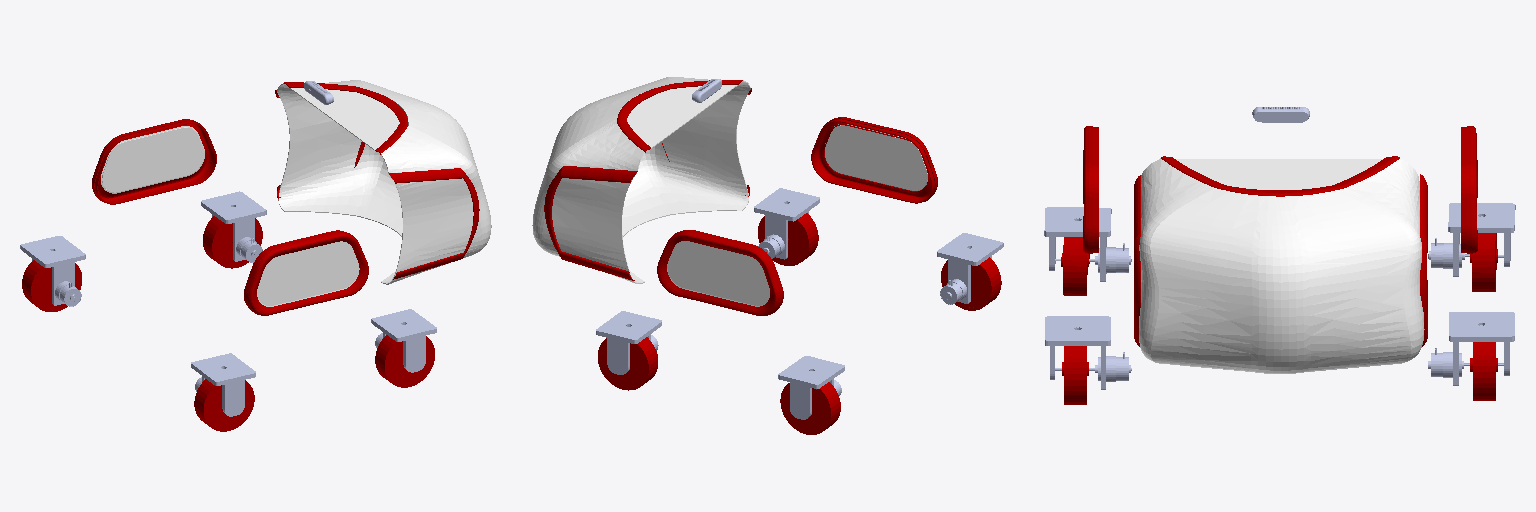
URDF robot description (polaris):
<?xml version="1.0" ?>
<robot name="polaris">

  <link name="base_footprint"/>

  <joint name="base_joint" type="fixed">
    <parent link="base_footprint"/>
    <child link="base_link" />
    <origin xyz="0 0 0.2" rpy="0 0 0"/>
  </joint>
  
  <link name="base_link">
    <inertial>
      <origin xyz="-0.0135856354500551 -0.000368623782946442 0.0321180332372298" rpy="0 0 0" />
      <mass value="17.3813227656087" />
      <inertia ixx="0.802202966157402" ixy="0.000367065697614043" ixz="0.0503338758794729"
        			 iyy="1.25689975167862" iyz="-1.81732123472174E-05"
        			 izz="1.4061181494617" />
    </inertial>
    <visual>
      <origin xyz="0 0 0" rpy="0 0 0" />
      <geometry>
        <mesh filename="package://polaris_v3/meshes/base_link.STL" />
      </geometry>
      <material name="White">
        <color rgba="1 1 1 1" />
      </material>
    </visual>
    <collision>
      <origin xyz="0 0 0" rpy="0 0 0" />
      <geometry>
        <mesh filename="package://polaris_v3/meshes/base_link.STL" />
      </geometry>
    </collision>
  </link>
  
  <link name="Frame_Link">
    <inertial>
      <origin xyz="0.065625 0.042375 0.065251" rpy="0 0 0" />
      <mass value="0.23722" />
      <inertia ixx="0.0014086" ixy="7.0084E-06" ixz="1.6947E-05"
        			 iyy="0.002752" iyz="-5.3554E-07"
        			 izz="0.0022916" />
    </inertial>
    <visual>
      <origin xyz="0 0 0" rpy="0 0 0" />
      <geometry>
        <mesh filename="package://polaris_v3/meshes/Frame_Link.STL" />
      </geometry>
      <material name="Red">
        <color rgba="0.75294 0 0 1" />
      </material>
    </visual>
    <collision>
      <origin xyz="0 0 0" rpy="0 0 0" />
      <geometry>
        <mesh filename="package://polaris_v3/meshes/Frame_Link.STL" />
      </geometry>
    </collision>
  </link>
  <joint name="Frame_Joint" type="fixed">
    <origin xyz="0 0 0" rpy="0 0 0" />
    <parent link="base_link" />
    <child link="Frame_Link" />
  </joint>
  
  <link name="FRS_Link">
    <inertial>
      <origin xyz="-0.00028954 0.017008 -0.030505" rpy="0 0 0" />
      <mass value="0.26569" />
      <inertia ixx="0.00020177" ixy="8.9975E-09" ixz="-3.4847E-08"
        			 iyy="0.00018976" iyz="1.0754E-07"
               izz="0.00025101" />
    </inertial>
    <visual>
      <origin xyz="0 0 0" rpy="0 0 0" />
      <geometry>
        <mesh filename="package://polaris_v3/meshes/FRS_Link.STL" />
      </geometry>
      <material name="Gray">
        <color rgba="0.79216 0.81961 0.93333 1" />
      </material>
    </visual>
    <collision>
      <origin xyz="0 0 0" rpy="0 0 0" />
      <geometry>
        <mesh filename="package://polaris_v3/meshes/FRS_Link.STL" />
      </geometry>
    </collision>
  </link>
  <joint name="FRS_Joint" type="revolute">
    <origin xyz="0.1834 -0.34874 -0.12737" rpy="0 0 0" />
    <parent link="base_link" />
    <child link="FRS_Link" />
    <axis xyz="0 0 -1" />
    <limit lower="-3.142" upper="3.142" effort="20" velocity="15" />
    <dynamics damping="0.2" friction="0.2" />
  </joint>
  
  <link name="FRD_Link">
    <inertial>
      <origin xyz="2.22044604925031E-16 -3.90312782094782E-18 0" rpy="0 0 0" />
      <mass value="0.518797270106307" />
      <inertia ixx="0.000593235551045214" ixy="-3.04506138371625E-07" ixz="1.80596659345287E-19"
       				 iyy="0.00104547053081701" iyz="2.88500201178985E-20"
               izz="0.000593235346010331" />
    </inertial>
    <visual>
      <origin xyz="0 0 0" rpy="0 0 0" />
      <geometry>
        <mesh filename="package://polaris_v3/meshes/FRD_Link.STL" />
      </geometry>
      <material name="Red">
        <color rgba="0.752941176470588 0 0 1" />
      </material>
    </visual>
    <collision>
      <origin xyz="0 0 0" rpy="0 0 0" />
      <geometry>
        <mesh filename="package://polaris_v3/meshes/FRD_Link.STL" />
      </geometry>
    </collision>
  </link>
  <joint name="FRD_Joint" type="continuous">
    <origin xyz="-0.0004176 -0.0043003 -0.06828" rpy="0 0 0" />
    <parent link="FRS_Link" />
    <child link="FRD_Link" />
    <axis xyz="0 1 0" />
  </joint>
  
  <link name="BRS_Link">
    <inertial>
      <origin xyz="4.72063399692413E-06 0.0170105153668563 -0.0305049637464356" rpy="0 0 0" />
      <mass value="0.26568630485325" />
      <inertia ixx="0.000201764594262619" ixy="-1.98649062271937E-07" ixz="-3.29811105170335E-08"
        			 iyy="0.000189766083815041" iyz="1.08128721551344E-07" 
        			 izz="0.000251005809312619" />
    </inertial>
    <visual>
      <origin xyz="0 0 0" rpy="0 0 0" />
      <geometry>
        <mesh filename="package://polaris_v3/meshes/BRS_Link.STL" />
      </geometry>
      <material name="Gray">
        <color rgba="0.792156862745098 0.819607843137255 0.933333333333333 1" />
      </material>
    </visual>
    <collision>
      <origin xyz="0 0 0" rpy="0 0 0" />
      <geometry>
        <mesh filename="package://polaris_v3/meshes/BRS_Link.STL" />
      </geometry>
    </collision>
  </link>
  <joint name="BRS_Joint" type="revolute">
    <origin xyz="-0.26091 -0.34874 -0.12737" rpy="0 0 0" />
    <parent link="base_link" />
    <child link="BRS_Link" />
    <axis xyz="0 0 -1" />
    <limit lower="-3.142" upper="3.142" effort="20" velocity="15" />
    <dynamics damping="0.2" friction="0.2" />
  </joint>
  
  <link
    name="BRD_Link">
    <inertial>
      <origin
        xyz="0.000332509365037759 0.019997235747028 -4.9960036108132E-15"
        rpy="0 0 0" />
      <mass
        value="0.518797270106307" />
      <inertia
        ixx="0.000593360346673492"
        ixy="7.51758594691379E-06"
        ixz="-1.18507925104678E-19"
        iyy="0.00104534573518873"
        iyz="-1.58025277226914E-18"
        izz="0.000593235346010331" />
    </inertial>
    <visual>
      <origin
        xyz="0 0 0"
        rpy="0 0 0" />
      <geometry>
        <mesh
          filename="package://polaris_v3/meshes/BRD_Link.STL" />
      </geometry>
      <material
        name="Red">
        <color
          rgba="0.752941176470588 0 0 1" />
      </material>
    </visual>
    <collision>
      <origin
        xyz="0 0 0"
        rpy="0 0 0" />
      <geometry>
        <mesh
          filename="package://polaris_v3/meshes/BRD_Link.STL" />
      </geometry>
    </collision>
  </link>
  <joint
    name="BRD_Joint"
    type="continuous">
    <origin
      xyz="-0.00082444 -0.02429 -0.06828"
      rpy="0 0 0" />
    <parent
      link="BRS_Link" />
    <child
      link="BRD_Link" />
    <axis
      xyz="0 1 0" />
  </joint>
  <link
    name="FLS_Link">
    <inertial>
      <origin
        xyz="0.000286717627501432 -0.0170081023419595 -0.0305049648298585"
        rpy="0 0 0" />
      <mass
        value="0.265686304830206" />
      <inertia
        ixx="0.000201767799862076"
        ixy="6.88211065138961E-09"
        ixz="3.44859487918497E-08"
        iyy="0.00018976272563148"
        iyz="-1.07548319818831E-07"
        izz="0.000251005813561771" />
    </inertial>
    <visual>
      <origin
        xyz="0 0 0"
        rpy="0 0 0" />
      <geometry>
        <mesh
          filename="package://polaris_v3/meshes/FLS_Link.STL" />
      </geometry>
      <material
        name="Gray">
        <color
          rgba="0.792156862745098 0.819607843137255 0.933333333333333 1" />
      </material>
    </visual>
    <collision>
      <origin
        xyz="0 0 0"
        rpy="0 0 0" />
      <geometry>
        <mesh
          filename="package://polaris_v3/meshes/FLS_Link.STL" />
      </geometry>
    </collision>
  </link>
  <joint
    name="FLS_Joint"
    type="revolute">
    <origin
      xyz="0.165 0.34671 -0.12737"
      rpy="0 0 0" />
    <parent
      link="base_link" />
    <child
      link="FLS_Link" />
    <axis
      xyz="0 0 -1" />
    <limit
      lower="-3.142"
      upper="3.142"
      effort="20"
      velocity="15" />
    <dynamics
      damping="0.2"
      friction="0.2" />
  </joint>
  <link
    name="FLD_Link">
    <inertial>
      <origin
        xyz="0 0 5.55111512312578E-17"
        rpy="0 0 0" />
      <mass
        value="0.518797270106306" />
      <inertia
        ixx="0.000593235346010329"
        ixy="-1.9296469329637E-20"
        ixz="-1.39501550379285E-20"
        iyy="0.00104547073585189"
        iyz="-4.85115886510159E-19"
        izz="0.000593235346010329" />
    </inertial>
    <visual>
      <origin
        xyz="0 0 0"
        rpy="0 0 0" />
      <geometry>
        <mesh
          filename="package://polaris_v3/meshes/FLD_Link.STL" />
      </geometry>
      <material
        name="Red">
        <color
          rgba="0.752941176470588 0 0 1" />
      </material>
    </visual>
    <collision>
      <origin
        xyz="0 0 0"
        rpy="0 0 0" />
      <geometry>
        <mesh
          filename="package://polaris_v3/meshes/FLD_Link.STL" />
      </geometry>
    </collision>
  </link>
  <joint
    name="FLD_Joint"
    type="continuous">
    <origin
      xyz="0.00041836 0.0043002 -0.06828"
      rpy="0 0 0.00049713" />
    <parent
      link="FLS_Link" />
    <child
      link="FLD_Link" />
    <axis
      xyz="0 1 0" />
  </joint>
  <link
    name="BLS_Link">
    <inertial>
      <origin
        xyz="-7.68143074765248E-05 -0.017010342585988 -0.0305049637459894"
        rpy="0 0 0" />
      <mass
        value="0.26568630485325" />
      <inertia
        ixx="0.000201762620887554"
        ixy="-2.49493379607449E-07"
        ixz="3.25225447298381E-08"
        iyy="0.000189767909095496"
        iyz="-1.08267530480578E-07"
        izz="0.000251005809312619" />
    </inertial>
    <visual>
      <origin
        xyz="0 0 0"
        rpy="0 0 0" />
      <geometry>
        <mesh
          filename="package://polaris_v3/meshes/BLS_Link.STL" />
      </geometry>
      <material
        name="Gray">
        <color
          rgba="0.792156862745098 0.819607843137255 0.933333333333333 1" />
      </material>
    </visual>
    <collision>
      <origin
        xyz="0 0 0"
        rpy="0 0 0" />
      <geometry>
        <mesh
          filename="package://polaris_v3/meshes/BLS_Link.STL" />
      </geometry>
    </collision>
  </link>
  <joint
    name="BLS_Joint"
    type="revolute">
    <origin
      xyz="-0.27885 0.34714 -0.12737"
      rpy="0 0 0" />
    <parent
      link="base_link" />
    <child
      link="BLS_Link" />
    <axis
      xyz="0 0 -1" />
    <limit
      lower="-3.142"
      upper="3.142"
      effort="20"
      velocity="15" />
    <dynamics
      damping="0.2"
      friction="0.2" />
  </joint>
  <link
    name="BLD_Link">
    <inertial>
      <origin
        xyz="-5.55111512312578E-17 -2.22044604925031E-16 -5.55111512312578E-17"
        rpy="0 0 0" />
      <mass
        value="0.518797270106306" />
      <inertia
        ixx="0.00059343218660394"
        ixy="9.43289649945181E-06"
        ixz="-1.91829463375101E-20"
        iyy="0.00104527389525828"
        iyz="1.65044423418098E-19"
        izz="0.000593235346010329" />
    </inertial>
    <visual>
      <origin
        xyz="0 0 0"
        rpy="0 0 0" />
      <geometry>
        <mesh
          filename="package://polaris_v3/meshes/BLD_Link.STL" />
      </geometry>
      <material
        name="Red">
        <color
          rgba="0.752941176470588 0 0 1" />
      </material>
    </visual>
    <collision>
      <origin
        xyz="0 0 0"
        rpy="0 0 0" />
      <geometry>
        <mesh
          filename="package://polaris_v3/meshes/BLD_Link.STL" />
      </geometry>
    </collision>
  </link>
  <joint
    name="BLD_Joint"
    type="continuous">
    <origin
      xyz="0.00051012 0.0042903 -0.06828"
      rpy="0 0 0" />
    <parent
      link="BLS_Link" />
    <child
      link="BLD_Link" />
    <axis
      xyz="0 1 0" />

  </joint>
  
  <link name="Glass_Link">
    <inertial>
      <origin xyz="0.33872 0.00012265 0.064463" rpy="0 0 0" />
      <mass value="1.2093" />
      <inertia
        ixx="0.041112"
        ixy="-5.5246E-05"
        ixz="0.00051803"
        iyy="0.017745"
        iyz="1.9916E-05"
        izz="0.038251" />
    </inertial>
    <visual>
      <origin xyz="0 0 0" rpy="0 0 0" />
      <geometry>
        <mesh filename="package://polaris_v3/meshes/Glass_Link.STL" />
      </geometry>
      <material name="Transparent">
        <color rgba="1 1 1 0.5" />
      </material>
    </visual>
    <collision>
      <origin xyz="0 0 0" rpy="0 0 0" />
      <geometry>
        <mesh filename="package://polaris_v3/meshes/Glass_Link.STL" />
      </geometry>
    </collision>
  </link>
  <joint name="Glass_Joint" type="fixed">
    <origin xyz="0 0 0" rpy="0 0 0" />
    <parent link="base_link" />
    <child link="Glass_Link" />
  </joint>
  
  <link name="Lidar_Link">
    <inertial>
      <origin xyz="0.002291 -6.7642E-05 -0.0052855" rpy="0 0 0" />
      <mass value="0.055329" />
      <inertia
        ixx="1.8044E-05"
        ixy="3.8843E-08"
        ixz="-2.5259E-07"
        iyy="1.772E-05"
        iyz="-4.9929E-09"
        izz="3.2968E-05" />
    </inertial>
    <visual>
      <origin xyz="0 0 0" rpy="0 0 0" />
      <geometry>
        <mesh filename="package://polaris_v3/meshes/Lidar_Link.STL" />
      </geometry>
      <material name="Black">
        <color rgba="0.29804 0.29804 0.29804 1" />
      </material>
    </visual>
    <collision>
      <origin xyz="0 0 0" rpy="0 0 0" />
      <geometry>
        <mesh filename="package://polaris_v3/meshes/Lidar_Link.STL" />
      </geometry>
    </collision>
  </link>
  <joint name="Lidar_Joint" type="fixed">
    <origin xyz="0.28338 0.0031714 0.23345" rpy="0 0 0" />
    <parent link="base_link" />
    <child link="Lidar_Link" />
  </joint>
  
  <link name="camera_link">
    <inertial>
      <origin xyz="0 0 0" rpy="0 0 0" />
      <mass value="0" />
      <inertia
        ixx="0"
        ixy="0"
        ixz="0"
        iyy="0"
        iyz="0"
        izz="0" />
    </inertial>
    <visual>
      <origin xyz="0 0 0" rpy="0 0 0" />
      <geometry>
        <mesh filename="package://polaris_v3/meshes/camera_link.STL" />
      </geometry>
      <material name="Gray">
        <color rgba="0.79216 0.81961 0.93333 1" />
      </material>
    </visual>
    <collision>
      <origin xyz="0 0 0" rpy="0 0 0" />
      <geometry>
        <mesh filename="package://polaris_v3/meshes/camera_link.STL" />
      </geometry>
    </collision>
  </link>
  <joint name="camera_joint" type="fixed">
    <origin xyz="0.18518 0.0013334 0.28471" rpy="-4.5863E-05 0 0" />
    <parent link="base_link" />
    <child link="camera_link" />
  </joint> 
   
  <link name="imu_link"/>   
  <joint name="imu_joint" type="fixed">
    <parent link="base_link"/>
    <child link="imu_link"/>
    <origin xyz="0.0 0 0.068" rpy="0 0 0"/>
  </joint>

  <transmission name="FRS_Link_trans">
    <type>transmission_interface/SimpleTransmission</type>
    <joint name="FRS_Joint">
    <hardwareInterface>hardware_interface/PositionJointInterface</hardwareInterface>
    </joint>
    <actuator name="FRS_Link_motor">
    <hardwareInterface>hardware_interface/PositionJointInterface</hardwareInterface>
    <mechanicalReduction>1</mechanicalReduction>
    </actuator>  
  </transmission> 

  <transmission name="FLS_Link_trans">
    <type>transmission_interface/SimpleTransmission</type>
    <joint name="FLS_Joint">
    <hardwareInterface>hardware_interface/PositionJointInterface</hardwareInterface>
    </joint>  
    <actuator name="FLS_Link_motor">
    <hardwareInterface>hardware_interface/PositionJointInterface</hardwareInterface>
    <mechanicalReduction>1</mechanicalReduction>
    </actuator>  
  </transmission>

  <transmission name="BRS_Link_trans">
    <type>transmission_interface/SimpleTransmission</type>
    <joint name="BRS_Joint">
    <hardwareInterface>hardware_interface/PositionJointInterface</hardwareInterface>
    </joint>
    <actuator name="BRS_Link_motor">
    <hardwareInterface>hardware_interface/PositionJointInterface</hardwareInterface>
    <mechanicalReduction>1</mechanicalReduction>
    </actuator>  
  </transmission>

  <transmission name="BLS_Link_trans">
    <type>transmission_interface/SimpleTransmission</type>
    <joint name="BLS_Joint">
    <hardwareInterface>hardware_interface/PositionJointInterface</hardwareInterface>
    </joint>
    <actuator name="BLS_Link_motor">
    <hardwareInterface>hardware_interface/PositionJointInterface</hardwareInterface>
    <mechanicalReduction>1</mechanicalReduction>
    </actuator>  
  </transmission>   
  
  <gazebo>
    <plugin name="gazebo_ros_control" filename="libgazebo_ros_control.so"/>
  </gazebo> 
  
  <gazebo reference="base_link">
    <material>Gazebo/White</material>
  </gazebo>
  
  <gazebo reference="Glass_Link">
    <material>Gazebo/White</material>
  </gazebo>
  
  <gazebo reference="Frame_Link">
    <material>Gazebo/Red</material>
  </gazebo> 

  <gazebo reference="camera_link">
    <material>Gazebo/Gray</material>
  </gazebo> 

  <gazebo reference="FRD_Link">
    <mu1>0.1</mu1>
    <mu2>0.1</mu2>
    <kp>500000.0</kp>
    <kd>10.0</kd>
    <minDepth>0.001</minDepth>
    <maxVel>0.1</maxVel>
    <fdir1>1 0 0</fdir1>
    <material>Gazebo/Red</material>
  </gazebo>

  <gazebo reference="FLD_Link">
    <mu1>0.1</mu1>
    <mu2>0.1</mu2>
    <kp>500000.0</kp>
    <kd>10.0</kd>
    <minDepth>0.001</minDepth>
    <maxVel>0.1</maxVel>
    <fdir1>1 0 0</fdir1>
    <material>Gazebo/Red</material>
  </gazebo>

  <gazebo reference="BRD_Link">
    <mu1>0.1</mu1>
    <mu2>0.1</mu2>
    <kp>500000.0</kp>
    <kd>10.0</kd>
    <minDepth>0.001</minDepth>
    <maxVel>0.1</maxVel>
    <fdir1>1 0 0</fdir1>
    <material>Gazebo/Red</material>
  </gazebo>

  <gazebo reference="BLD_Link">
    <mu1>0.1</mu1>
    <mu2>0.1</mu2>
    <kp>500000.0</kp>
    <kd>10.0</kd>
    <minDepth>0.001</minDepth>
    <maxVel>0.05</maxVel>
    <fdir1>1 0 0</fdir1>
    <material>Gazebo/Red</material>
  </gazebo>
  
  <gazebo reference="FRS_Link">
    <mu1>0.1</mu1>
    <mu2>0.1</mu2>
    <kp>500000.0</kp>
    <kd>10.0</kd>
    <minDepth>0.001</minDepth>
    <maxVel>0.05</maxVel>
    <fdir1>0 0 1</fdir1>
    <material>Gazebo/Gray</material>
  </gazebo>

  <gazebo reference="FLS_Link">
    <mu1>0.1</mu1>
    <mu2>0.1</mu2>
    <kp>500000.0</kp>
    <kd>10.0</kd>
    <minDepth>0.001</minDepth>
    <maxVel>0.05</maxVel>
    <fdir1>0 0 1</fdir1>
    <material>Gazebo/Gray</material>
  </gazebo>
  
  <gazebo reference="BRS_Link">
    <mu1>0.1</mu1>
    <mu2>0.1</mu2>
    <kp>500000.0</kp>
    <kd>10.0</kd>
    <minDepth>0.001</minDepth>
    <maxVel>0.05</maxVel>
    <fdir1>0 0 1</fdir1>
    <material>Gazebo/Gray</material>
  </gazebo>

  <gazebo reference="BLS_Link">
    <mu1>0.1</mu1>
    <mu2>0.1</mu2>
    <kp>500000.0</kp>
    <kd>10.0</kd>
    <minDepth>0.001</minDepth>
    <maxVel>0.05</maxVel>
    <fdir1>0 0 1</fdir1>
    <material>Gazebo/Gray</material>
  </gazebo>

  <gazebo reference="imu_link">
    <sensor type="imu" name="imu">
      <always_on>true</always_on>
      <visualize>false</visualize>
    </sensor>
    <material>Gazebo/Grey</material>
  </gazebo>

  <gazebo>
    <plugin name="polaris_controller" filename="libgazebo_ros_skid_steer_drive.so">
      <commandTopic>cmd_vel</commandTopic>
      <odometryTopic>odom</odometryTopic>
      <odometryFrame>odom</odometryFrame>
      <odometrySource>world</odometrySource>
      <publishOdomTF>true</publishOdomTF>
      <robotBaseFrame>base_footprint</robotBaseFrame>
      <publishTf>true</publishTf>
      <publishWheelJointState>true</publishWheelJointState>
      <legacyMode>false</legacyMode>
      <updateRate>30</updateRate>
      <leftFrontJoint>FLD_Joint</leftFrontJoint>
      <rightFrontJoint>FRD_Joint</rightFrontJoint>
      <leftRearJoint>BLD_Joint</leftRearJoint>
      <rightRearJoint>BRD_Joint</rightRearJoint>  
      <wheelSeparation>0.70017</wheelSeparation>
      <wheelDiameter>0.125</wheelDiameter>
      <wheelAcceleration>1</wheelAcceleration>
      <wheelTorque>10</wheelTorque>
      <rosDebugLevel>na</rosDebugLevel>
      <torque>20000</torque> 
      <covariance_x>0.0001</covariance_x>
      <covariance_y>0.0001</covariance_y>
      <covariance_yaw>0.01</covariance_yaw>  
    </plugin>
  </gazebo>

  <gazebo reference="Lidar_Link">
    <material>Gazebo/Black</material>
    <sensor type="ray" name="RPLIDAR_A2M12">
      <pose>0 0 0 0 0 0</pose>
      <visualize>true</visualize>
      <update_rate>30</update_rate>
      <ray>
        <scan>
          <horizontal>
            <samples>360</samples>
            <resolution>1</resolution>
            <min_angle>0.0</min_angle>
            <max_angle>6.28319</max_angle>
          </horizontal>
        </scan>
        <range>
          <min>0.150</min>
          <max>12.0</max>
          <resolution>0.015</resolution>
        </range> 
        <noise>
          <type>gaussian</type>
          <mean>0.0</mean>
          <stddev>0.01</stddev>
        </noise>
      </ray>
      <plugin name="gazebo_ros_RPLIDAR_A2M12_controller" filename="libgazebo_ros_laser.so">
        <topicName>/scan</topicName>
        <frameName>Lidar_Link</frameName>
      </plugin>
    </sensor>
  </gazebo>
  
  <gazebo>
    <plugin name="imu_plugin" filename="libgazebo_ros_imu.so">
      <alwaysOn>true</alwaysOn>
      <bodyName>imu_link</bodyName>
      <frameName>imu_link</frameName>
      <topicName>imu</topicName>
      <serviceName>imu_service</serviceName>
      <gaussianNoise>0.0</gaussianNoise>
      <updateRate>0</updateRate>
      <imu>
        <noise>
          <type>gaussian</type>
          <rate>
            <mean>0.0</mean>
            <stddev>2e-4</stddev>
            <bias_mean>0.0000075</bias_mean>
            <bias_stddev>0.0000008</bias_stddev>
          </rate>
          <accel>
            <mean>0.0</mean>
            <stddev>1.7e-2</stddev>
            <bias_mean>0.1</bias_mean>
            <bias_stddev>0.001</bias_stddev>
          </accel>
        </noise>
      </imu>
    </plugin>
  </gazebo>

<!--link : https://www.raspberrypi.org/documentation/hardware/camera/-->
  <gazebo reference="camera_link">
    <sensor type="camera" name="Pi Camera">
      <always_on>true</always_on>
      <visualize>true</visualize>
      <camera>
          <horizontal_fov>1.085595</horizontal_fov>
          <image>
              <width>640</width>
              <height>480</height>
              <format>R8G8B8</format>
          </image>
          <clip>
              <near>0.03</near>
              <far>100</far>
          </clip>
      </camera>
      <plugin name="camera_controller" filename="libgazebo_ros_camera.so">
        <alwaysOn>true</alwaysOn>
        <updateRate>30.0</updateRate>
        <cameraName>camera</cameraName>
        <frameName>camera_rgb_optical_frame</frameName>
        <imageTopicName>rgb/image_raw</imageTopicName>
        <cameraInfoTopicName>rgb/camera_info</cameraInfoTopicName>
        <hackBaseline>0.07</hackBaseline>
        <distortionK1>0.0</distortionK1>
        <distortionK2>0.0</distortionK2>
        <distortionK3>0.0</distortionK3>
        <distortionT1>0.0</distortionT1>
        <distortionT2>0.0</distortionT2>
      </plugin>
    </sensor>
  </gazebo>

</robot>

--- Render facts (derived) ---
Views: 3 orthographic renders of the robot side by side, from view 1: azimuth 30°, elevation 25°; view 2: azimuth 150°, elevation 25°; view 3: azimuth 270°, elevation 25°.
Robot: polaris — 15 links, 14 joints (4 revolute, 4 continuous, 6 fixed); root link base_footprint; default pose: every joint at zero.
Links seen in each view (by area): view 1: Glass_Link, Frame_Link, BLS_Link, FLS_Link, FRS_Link, BRS_Link, BRD_Link, FRD_Link, FLD_Link, BLD_Link; view 2: Glass_Link, Frame_Link, BRS_Link, FRS_Link, FLS_Link, BLS_Link, BLD_Link, FLD_Link, FRD_Link, BRD_Link; view 3: Glass_Link, Frame_Link, FLS_Link, FRS_Link, BRS_Link, BLS_Link, FLD_Link, FRD_Link, BRD_Link, BLD_Link, camera_link.
Link boxes in pixels (bbox=[...]): Glass_Link: bbox=[101, 80, 491, 306]; Frame_Link: bbox=[92, 82, 479, 315]; BLS_Link: bbox=[20, 236, 85, 306]; FLS_Link: bbox=[201, 191, 266, 262]; FRS_Link: bbox=[371, 309, 436, 372]; BRS_Link: bbox=[191, 353, 255, 416]; BRD_Link: bbox=[194, 379, 254, 431]; FRD_Link: bbox=[375, 335, 434, 387]; FLD_Link: bbox=[203, 216, 262, 268]; BLD_Link: bbox=[22, 260, 81, 311]; Glass_Link: bbox=[532, 77, 927, 306]; Frame_Link: bbox=[544, 80, 937, 315]; BRS_Link: bbox=[937, 233, 1003, 304]; FRS_Link: bbox=[754, 188, 819, 259]; FLS_Link: bbox=[596, 311, 661, 374]; BLS_Link: bbox=[778, 356, 844, 419]; BLD_Link: bbox=[780, 382, 840, 434]; FLD_Link: bbox=[598, 337, 657, 390]; FRD_Link: bbox=[758, 213, 818, 265]; BRD_Link: bbox=[941, 257, 1001, 310]; Glass_Link: bbox=[1139, 158, 1424, 373]; Frame_Link: bbox=[1083, 126, 1477, 346]; FLS_Link: bbox=[1428, 312, 1514, 385]; FRS_Link: bbox=[1045, 316, 1131, 389]; BRS_Link: bbox=[1044, 207, 1131, 281]; BLS_Link: bbox=[1428, 203, 1515, 276]; FLD_Link: bbox=[1470, 342, 1497, 400]; FRD_Link: bbox=[1062, 346, 1088, 404]; BRD_Link: bbox=[1061, 237, 1089, 295]; BLD_Link: bbox=[1470, 233, 1497, 291]; camera_link: bbox=[1252, 107, 1309, 122].
Size in the robot's own frame: 0.8764 by 0.8115 by 0.5549 metres.
11 mesh visuals loaded from 13 distinct referenced files (11 binary STL); not drawn: 2 (reference not matched to a file when rendering).
